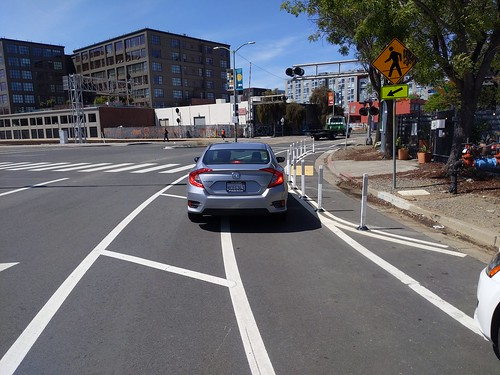building: (73, 33, 232, 126), (1, 36, 67, 132), (272, 72, 387, 124)
car: (189, 138, 287, 223)
crosswalk: (1, 152, 193, 185)
sign: (366, 38, 420, 96)
street: (1, 134, 430, 374)
tree: (301, 5, 500, 217)
